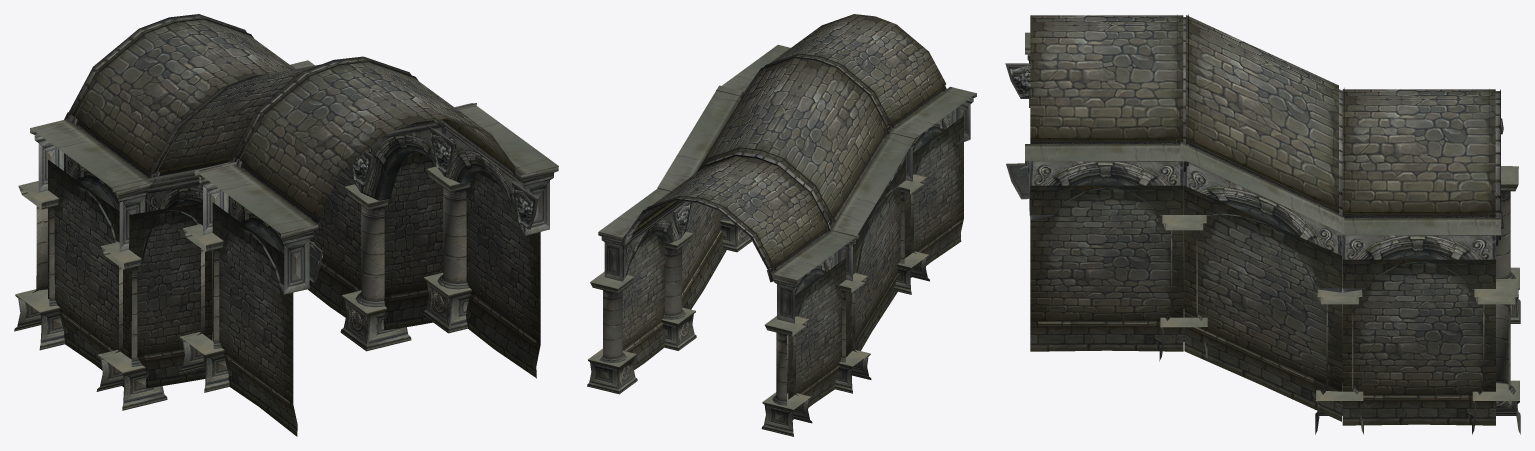
The model's file is DN_1_4_ldao05a.FBX.
The picture shows the model from 3 angles, left to right: view 1: azimuth 30°, elevation 25°; view 2: azimuth 150°, elevation 25°; view 3: azimuth 270°, elevation 25°; orthographic projection. The views are drawn at different scales.
Visible parts, largest first — view 1: DN_1_4_ldao05a; view 2: DN_1_4_ldao05a; view 3: DN_1_4_ldao05a.
Boxes of the visible parts, bbox=[...] form: DN_1_4_ldao05a: bbox=[14, 14, 558, 436]; DN_1_4_ldao05a: bbox=[587, 14, 976, 436]; DN_1_4_ldao05a: bbox=[1005, 14, 1520, 434].
Bounding box in the file's own units: 938 × 1129 × 1525.
